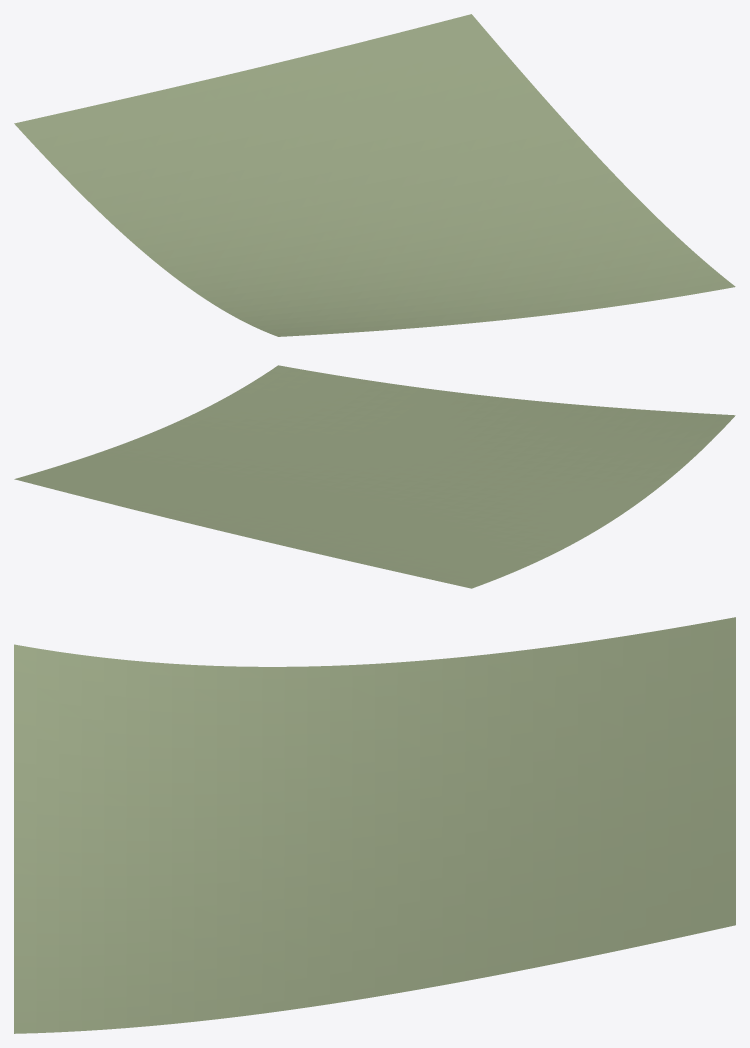
Rendered from expanse-28-20.glb.
The picture shows the model from 3 angles, top to bottom: view 1: azimuth 30°, elevation 25°; view 2: azimuth 150°, elevation 25°; view 3: azimuth 270°, elevation 25°; orthographic projection. The views are drawn at different scales.
Visible parts, largest first — view 1: expanse-28-20; view 2: expanse-28-20; view 3: expanse-28-20.
Part boxes in pixels (box(x1,y1,x2,y2)): expanse-28-20: box(14, 14, 735, 336); expanse-28-20: box(14, 365, 735, 588); expanse-28-20: box(14, 617, 735, 1033).
Size of the model in its own units: 256 by 43.66 by 256.
